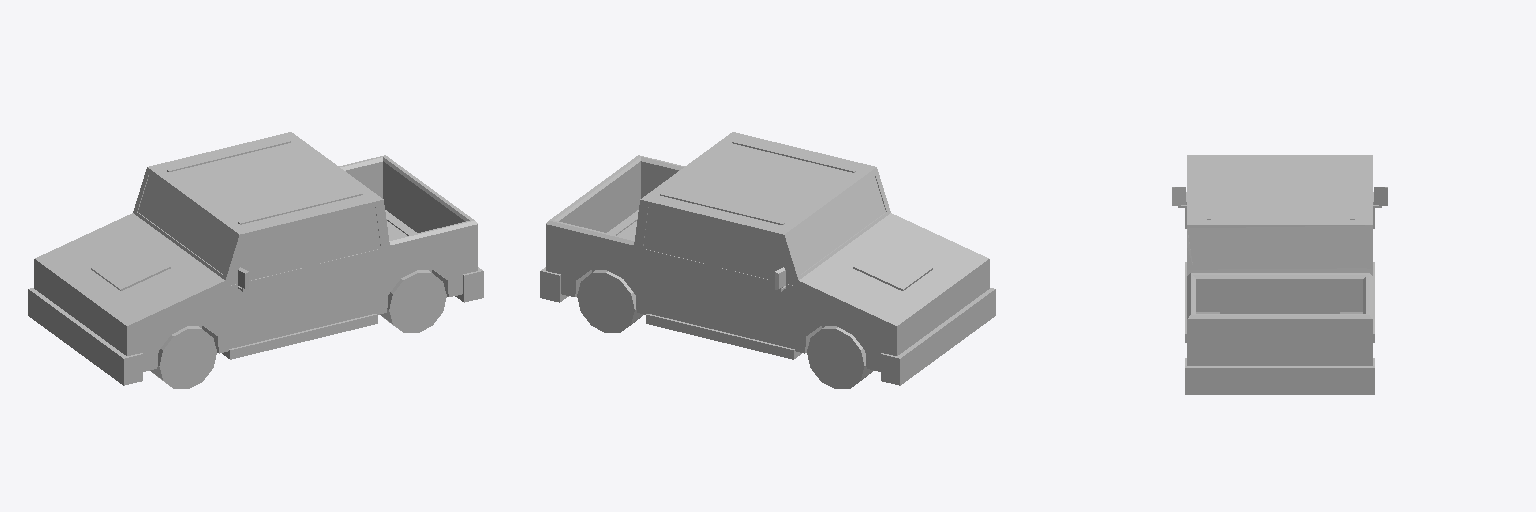
Rendered from Pick up Truck.obj.
The picture shows the model from 3 angles: view 1: azimuth 30°, elevation 25°; view 2: azimuth 150°, elevation 25°; view 3: azimuth 270°, elevation 25°; orthographic projection.
Visible parts, largest first — view 1: Car_Body, Wheel_FL, Wheel_RL; view 2: Car_Body, Wheel_FR, Wheel_RR; view 3: Car_Body.
Boxes of the visible parts, box(x1,y1,x2,y2) form: Car_Body: box(28, 132, 483, 385); Wheel_FL: box(150, 326, 216, 388); Wheel_RL: box(380, 270, 446, 332); Car_Body: box(540, 132, 995, 385); Wheel_FR: box(807, 326, 873, 388); Wheel_RR: box(577, 270, 643, 332); Car_Body: box(1172, 155, 1387, 394).
Bounding box in the file's own units: 235 × 89.57 × 122.